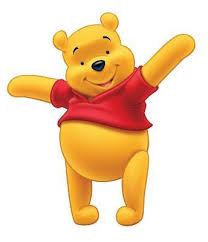Winnie: (35, 11, 162, 133)
